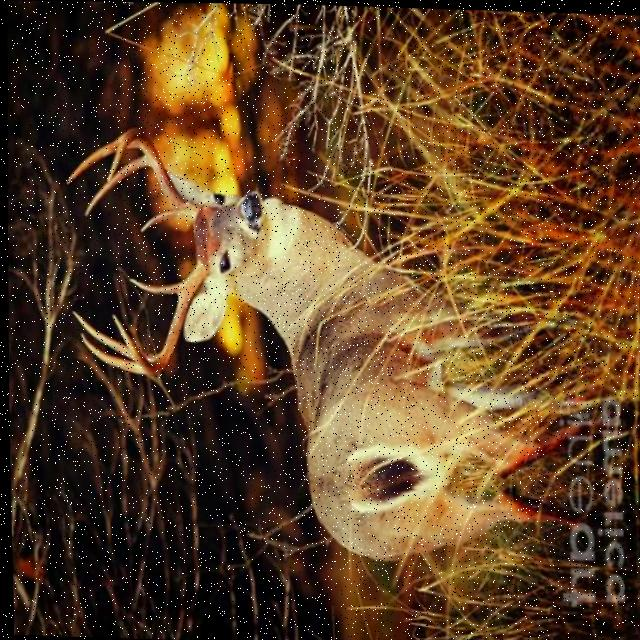L-F: (109, 261, 204, 376)
L-G1: (126, 277, 183, 295)
R-F: (104, 126, 197, 218)
R-G1: (137, 206, 179, 231)
